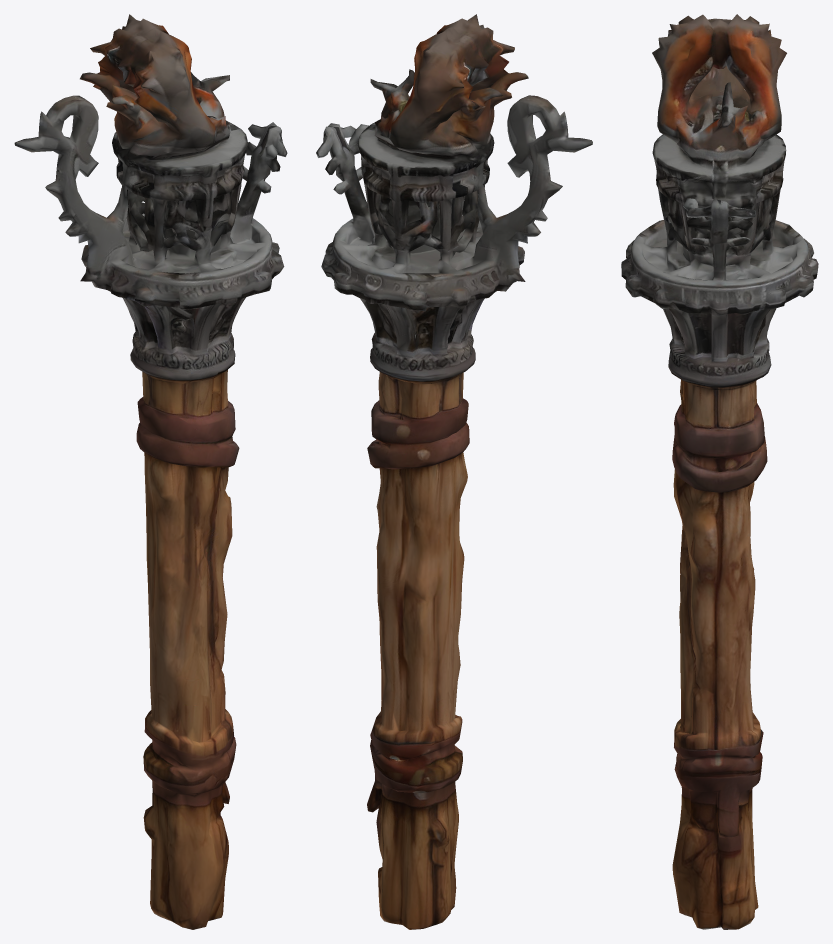
Rendered from TochaMedievalTripo.glb.
3 views of the same model, side by side, from view 1: azimuth 30°, elevation 25°; view 2: azimuth 150°, elevation 25°; view 3: azimuth 270°, elevation 25° (orthographic).
Parts seen in each view (by area): view 1: tripo_node_6ff719f7-27b8-4c51-864f-e9d5b2e4fb7a; view 2: tripo_node_6ff719f7-27b8-4c51-864f-e9d5b2e4fb7a; view 3: tripo_node_6ff719f7-27b8-4c51-864f-e9d5b2e4fb7a.
Part boxes in pixels (box(x1,y1,x2,y2)): tripo_node_6ff719f7-27b8-4c51-864f-e9d5b2e4fb7a: box(14, 14, 287, 929); tripo_node_6ff719f7-27b8-4c51-864f-e9d5b2e4fb7a: box(316, 14, 592, 929); tripo_node_6ff719f7-27b8-4c51-864f-e9d5b2e4fb7a: box(621, 14, 818, 929).
Bounding box in the file's own units: 0.3095 × 1 × 0.2017.
1 material, 1 textured.
